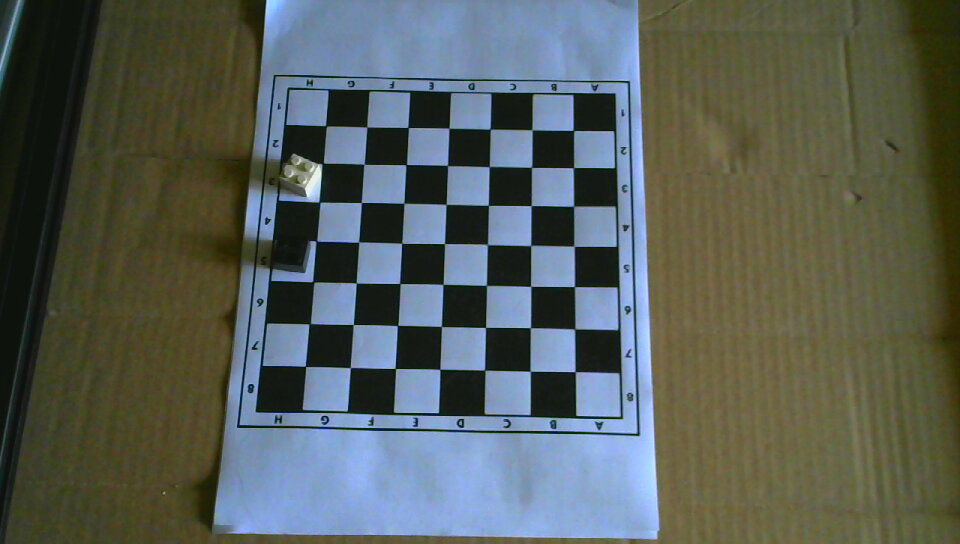bp: (273, 235, 310, 274)
wp: (279, 152, 321, 198)
